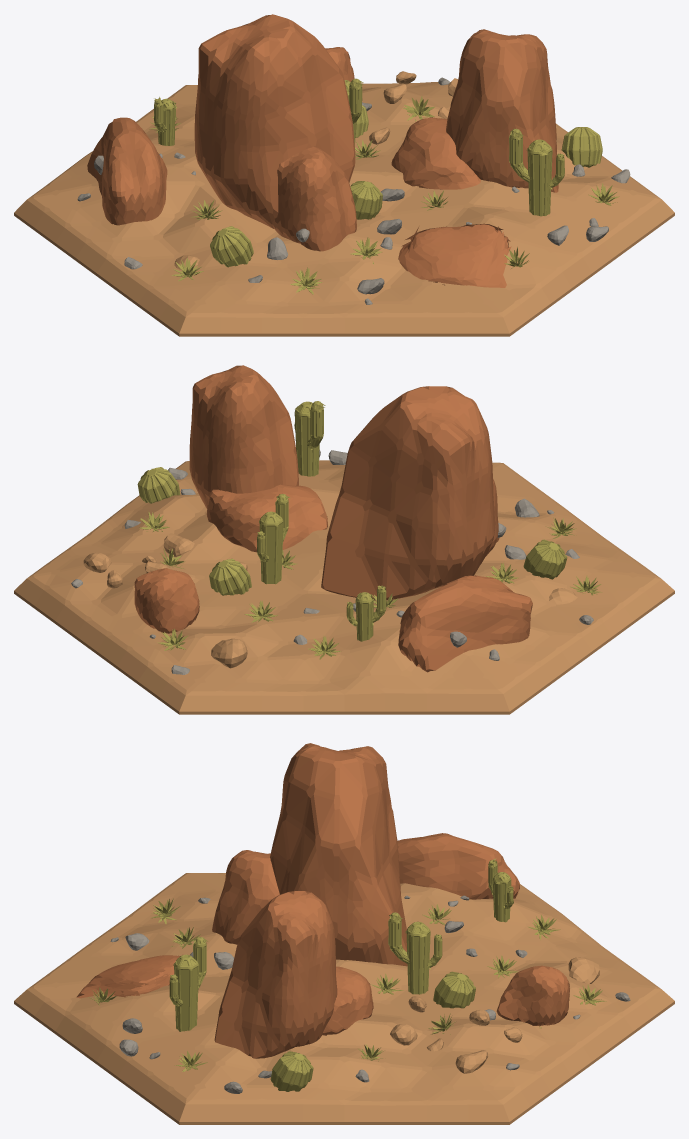
Rendered from temperateDesert.glb.
3 views of the same model, one above another, from view 1: azimuth 30°, elevation 25°; view 2: azimuth 150°, elevation 25°; view 3: azimuth 270°, elevation 25° (orthographic).
Visible parts, largest first — view 1: temperatedesert; view 2: temperatedesert; view 3: temperatedesert.
Boxes of the visible parts, box(x1,y1,x2,y2) form: temperatedesert: box(14, 14, 674, 336); temperatedesert: box(14, 365, 674, 714); temperatedesert: box(14, 743, 674, 1124).
Bounding box in the file's own units: 1.73 × 0.715 × 2.
